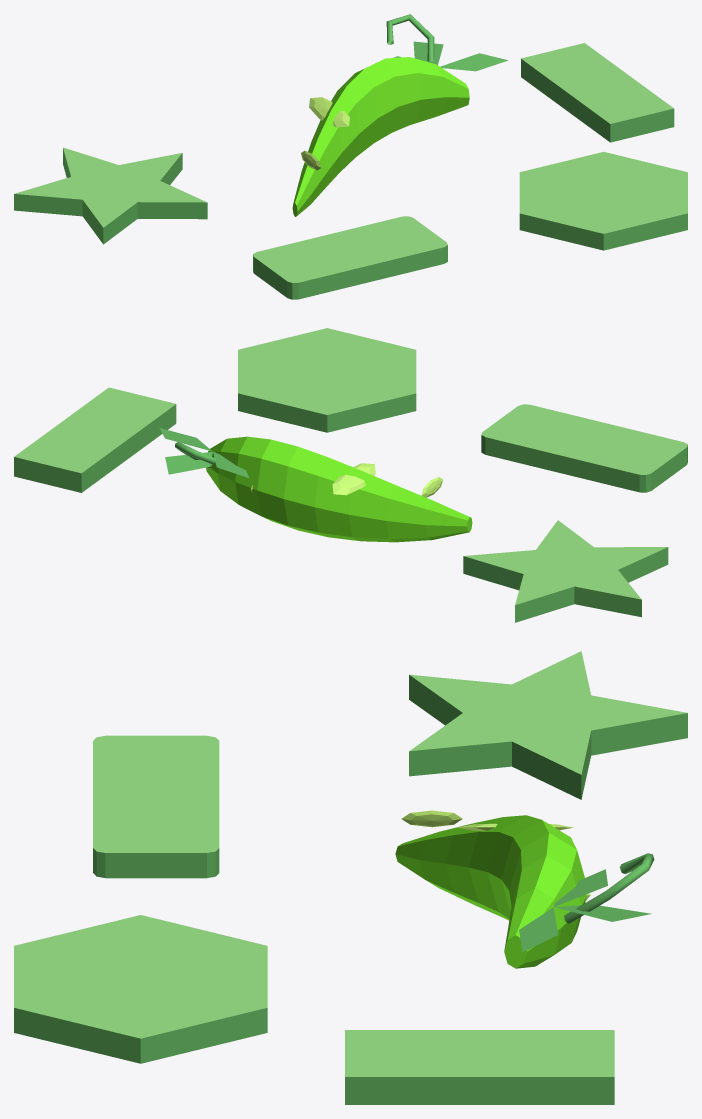
Rendered from all_low_poly_web_ar.glb.
The picture shows the model from 3 angles, top to bottom: view 1: azimuth 30°, elevation 25°; view 2: azimuth 150°, elevation 25°; view 3: azimuth 270°, elevation 25°; orthographic projection. The views are drawn at different scales.
Visible parts, largest first — view 1: segi_enam_low_poly, chili_green_low_poly, persegi_panjang_low_poly, bintang_low_poly, kotak_tinggi_low_poly, chili_leaf_1, chili_stem_low_poly, chili_highlight_1; view 2: chili_green_low_poly, segi_enam_low_poly, persegi_panjang_low_poly, bintang_low_poly, kotak_tinggi_low_poly, chili_highlight_1, chili_leaf_3; view 3: segi_enam_low_poly, bintang_low_poly, kotak_tinggi_low_poly, persegi_panjang_low_poly, chili_green_low_poly, chili_stem_low_poly, chili_leaf_1, chili_highlight_2, chili_leaf_3, chili_leaf_2.
Part boxes in pixels (box(x1,y1,x2,y2)): segi_enam_low_poly: box(519, 151, 687, 250); chili_green_low_poly: box(292, 57, 469, 216); persegi_panjang_low_poly: box(253, 216, 447, 299); bintang_low_poly: box(14, 147, 207, 244); kotak_tinggi_low_poly: box(521, 43, 674, 142); chili_leaf_1: box(440, 53, 508, 71); chili_stem_low_poly: box(386, 14, 434, 62); chili_highlight_1: box(309, 97, 349, 127); chili_green_low_poly: box(206, 436, 472, 542); segi_enam_low_poly: box(238, 328, 416, 432); persegi_panjang_low_poly: box(481, 404, 687, 492); bintang_low_poly: box(463, 520, 668, 622); kotak_tinggi_low_poly: box(14, 387, 176, 492); chili_highlight_1: box(332, 463, 375, 495); chili_leaf_3: box(165, 451, 212, 474); segi_enam_low_poly: box(14, 915, 267, 1063); bintang_low_poly: box(409, 651, 687, 799); kotak_tinggi_low_poly: box(345, 1030, 614, 1104); persegi_panjang_low_poly: box(93, 735, 219, 878); chili_green_low_poly: box(395, 815, 586, 968); chili_stem_low_poly: box(564, 853, 654, 923); chili_leaf_1: box(519, 907, 558, 951); chili_highlight_2: box(401, 810, 462, 827); chili_leaf_3: box(554, 905, 651, 921); chili_leaf_2: box(554, 869, 607, 906).
Bounding box in the file's own units: 6.56 × 1.08 × 4.37.
